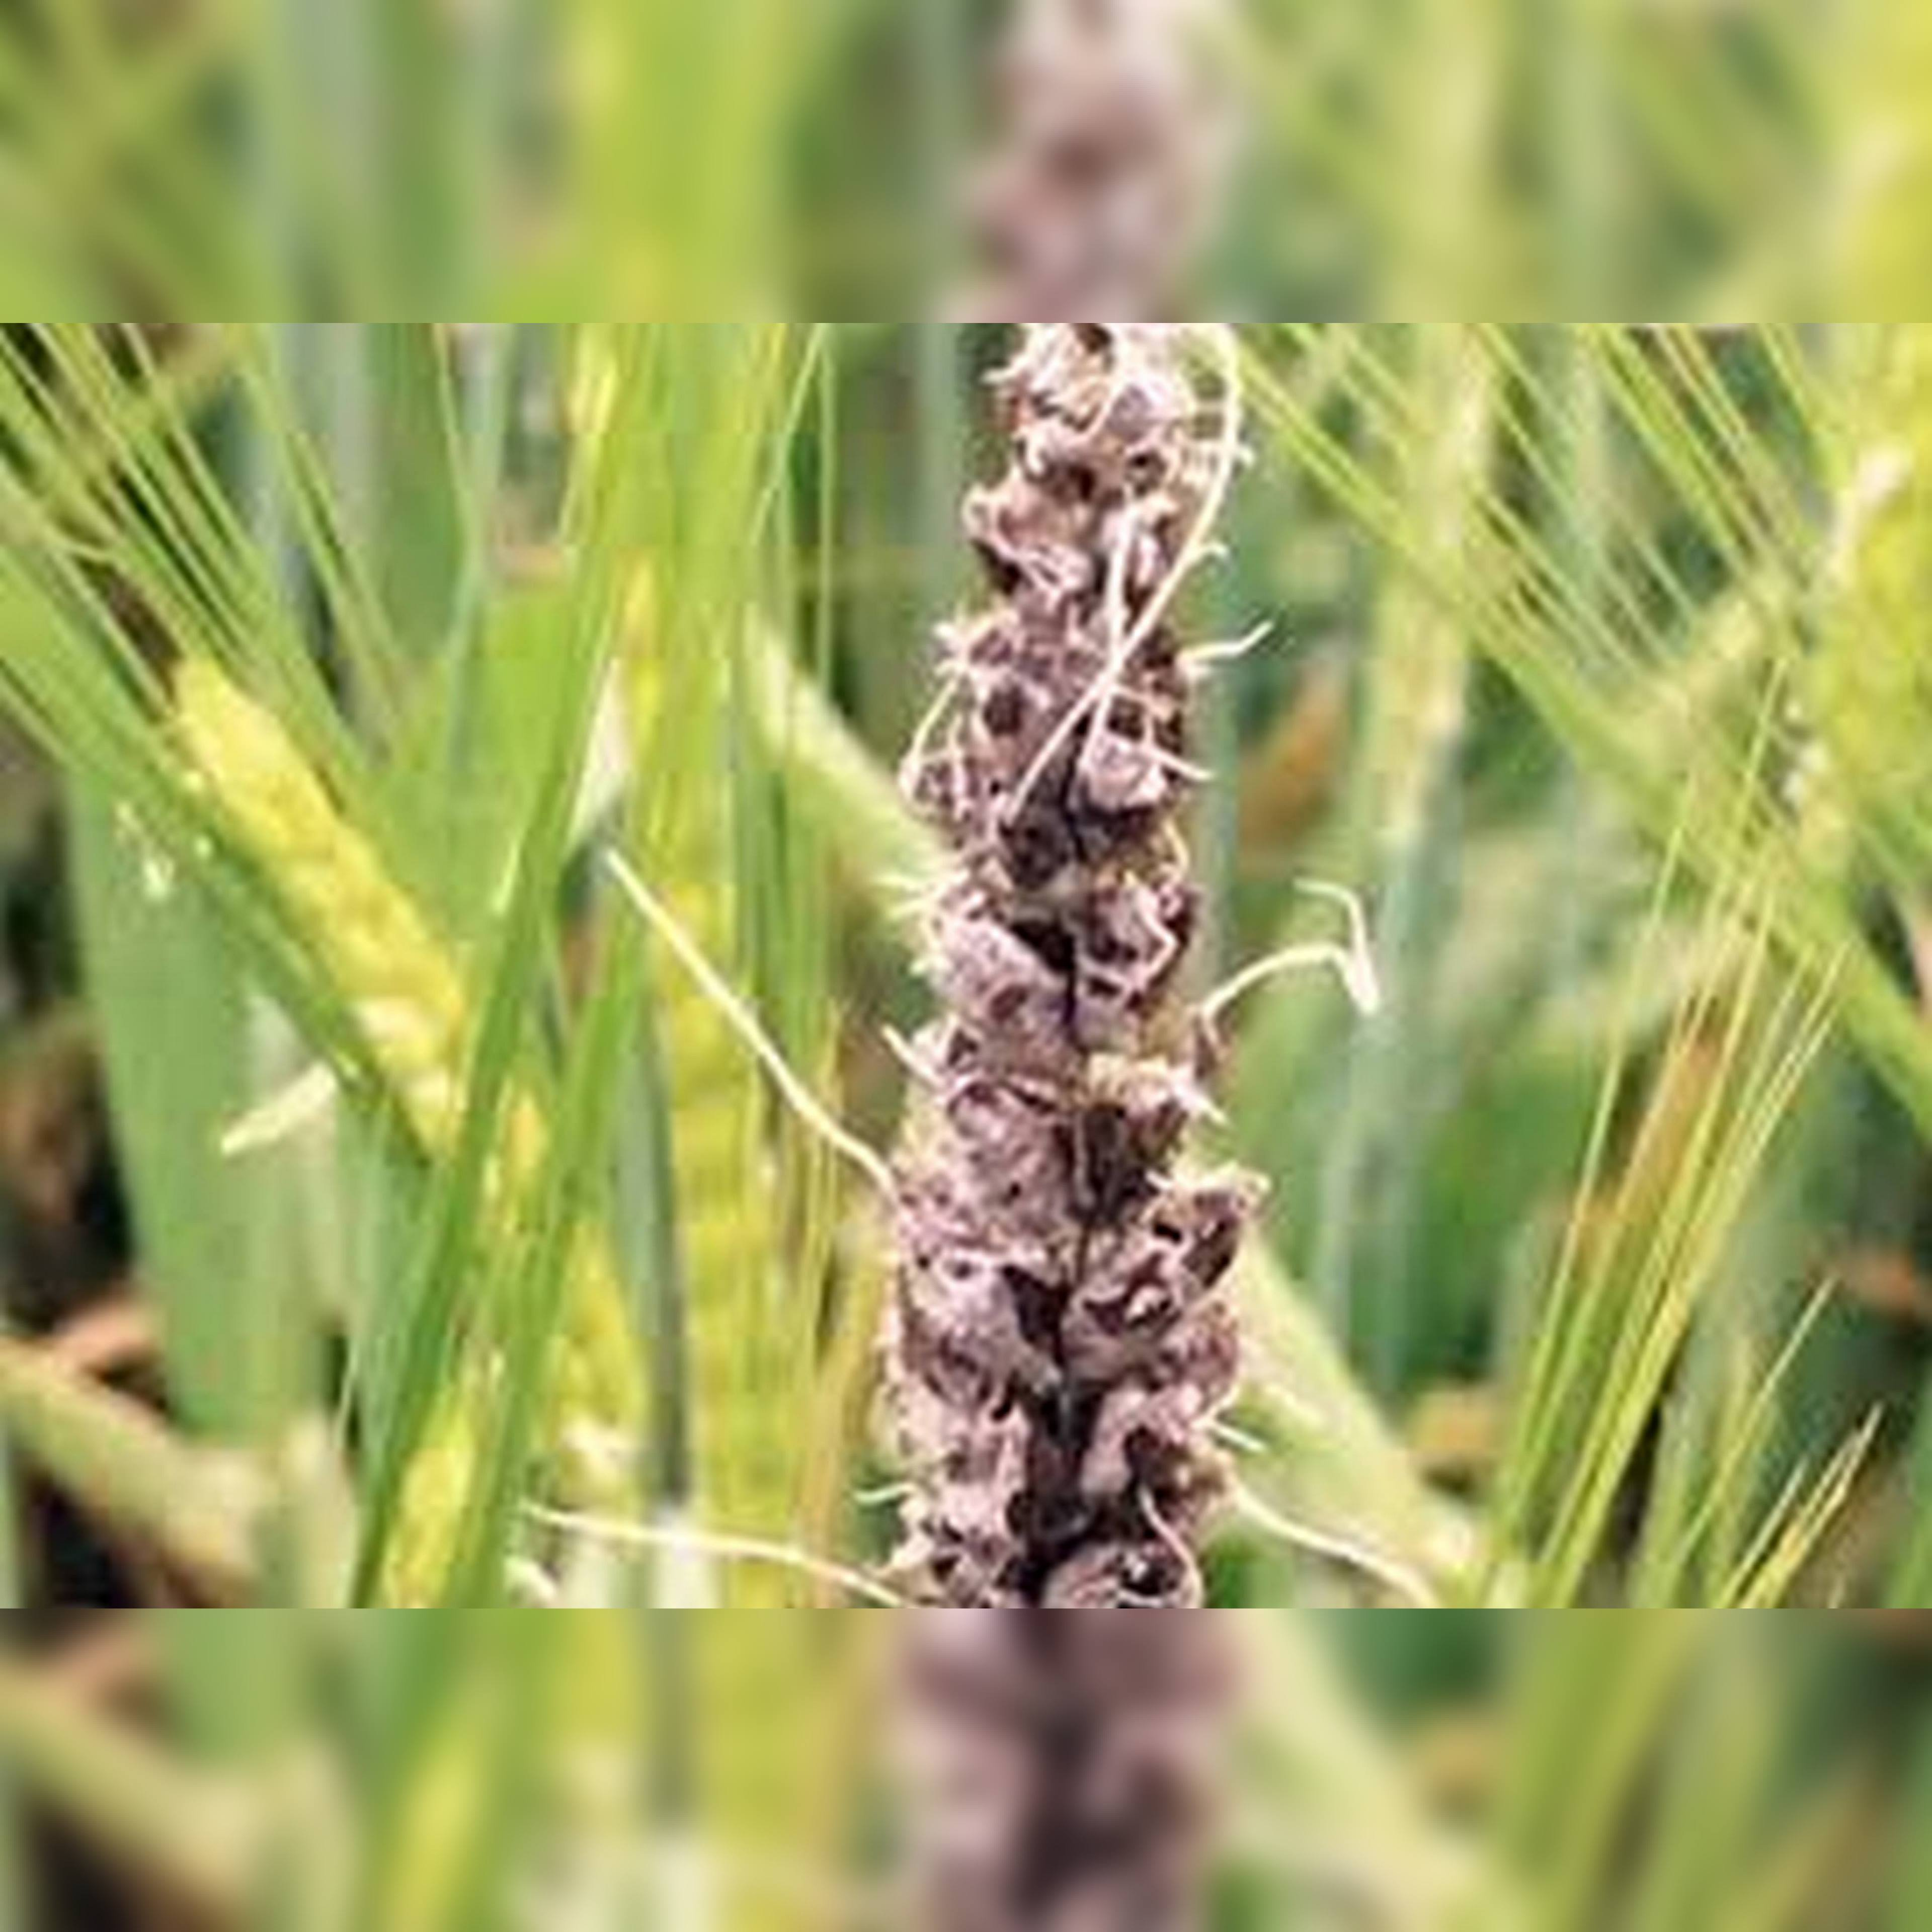Wheat Loose Smut: (816, 368, 1279, 1594)
